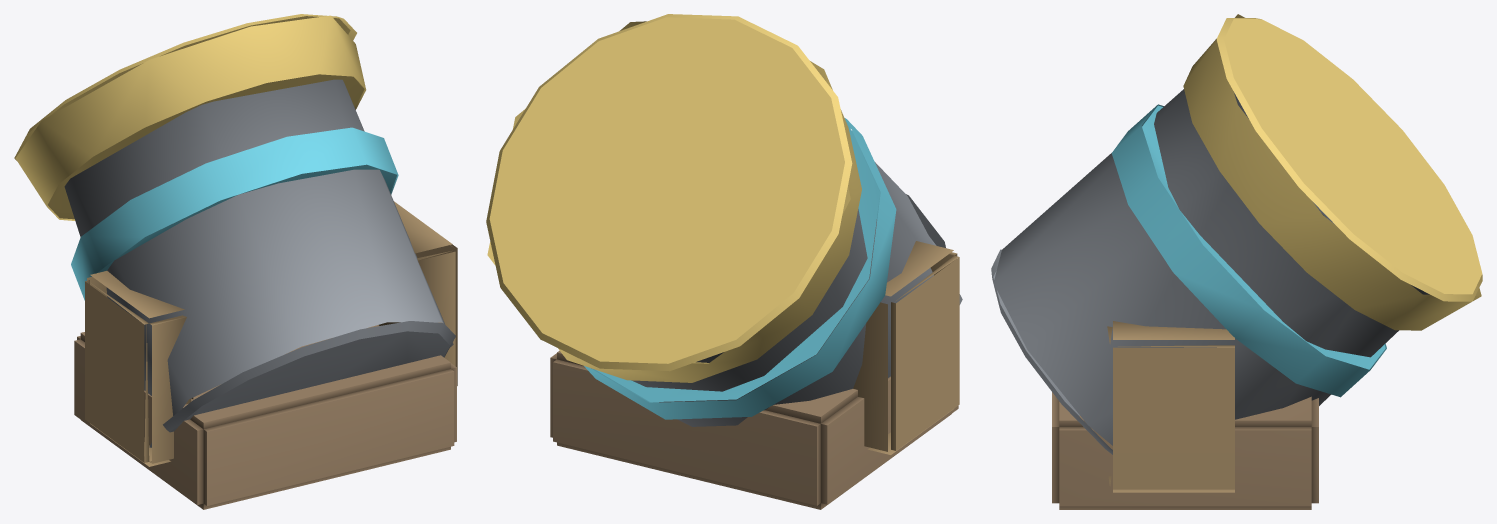
File: rune_mortar_tube_lod1.glb
3 views of the same model, side by side, from view 1: azimuth 30°, elevation 25°; view 2: azimuth 150°, elevation 25°; view 3: azimuth 270°, elevation 25° (orthographic). The views are drawn at different scales.
Parts seen in each view (by area): view 1: rune_mortar_tube.001; view 2: rune_mortar_tube.001; view 3: rune_mortar_tube.001.
Part boxes in pixels (bbox=[...]): rune_mortar_tube.001: bbox=[14, 14, 457, 509]; rune_mortar_tube.001: bbox=[486, 14, 962, 509]; rune_mortar_tube.001: bbox=[991, 14, 1482, 509].
Size of the model in its own units: 1.3 by 1.69 by 1.69.
